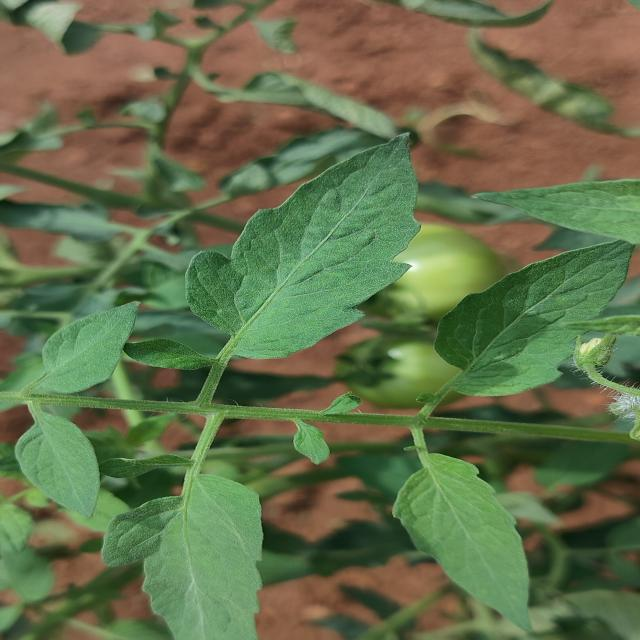tomato_healthy: (185, 134, 419, 368), (434, 240, 634, 396), (393, 428, 532, 632), (142, 475, 261, 640), (21, 302, 138, 394), (13, 402, 98, 516)
